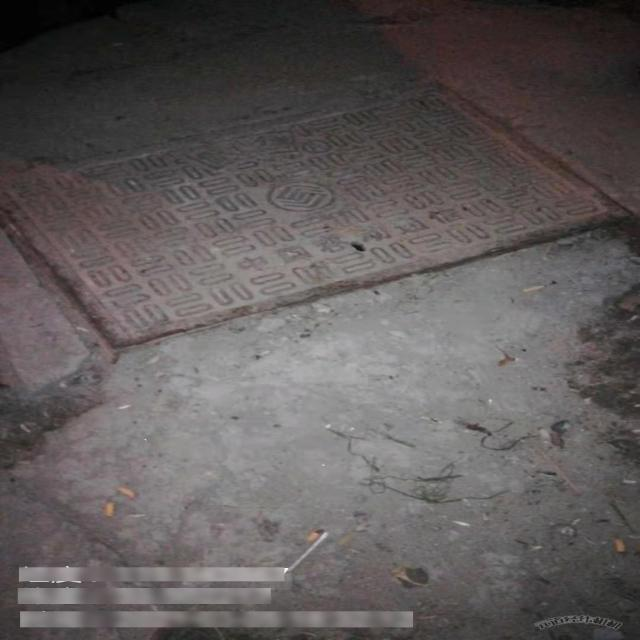Good: (0, 80, 639, 355)
